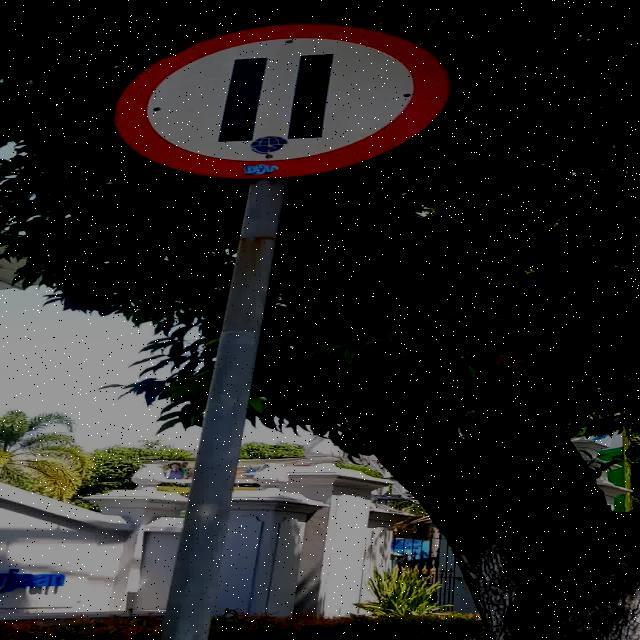Larangan Muatan - 10 ton: (114, 22, 451, 178)
